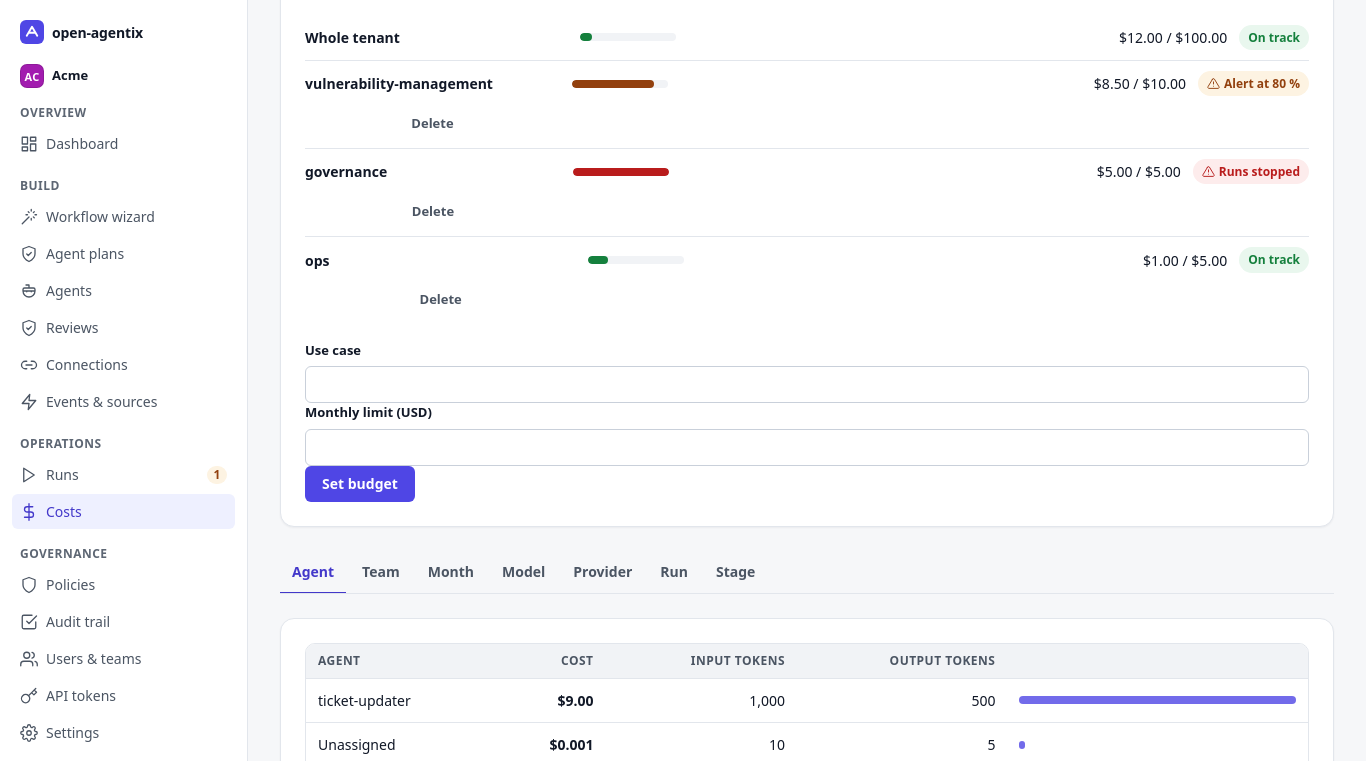
Test: monthly budgets › reports save and remove errors
(page scrolled)
In the field labelled "Use case": (807, 385) [305, 366, 1309, 403], type "finance"
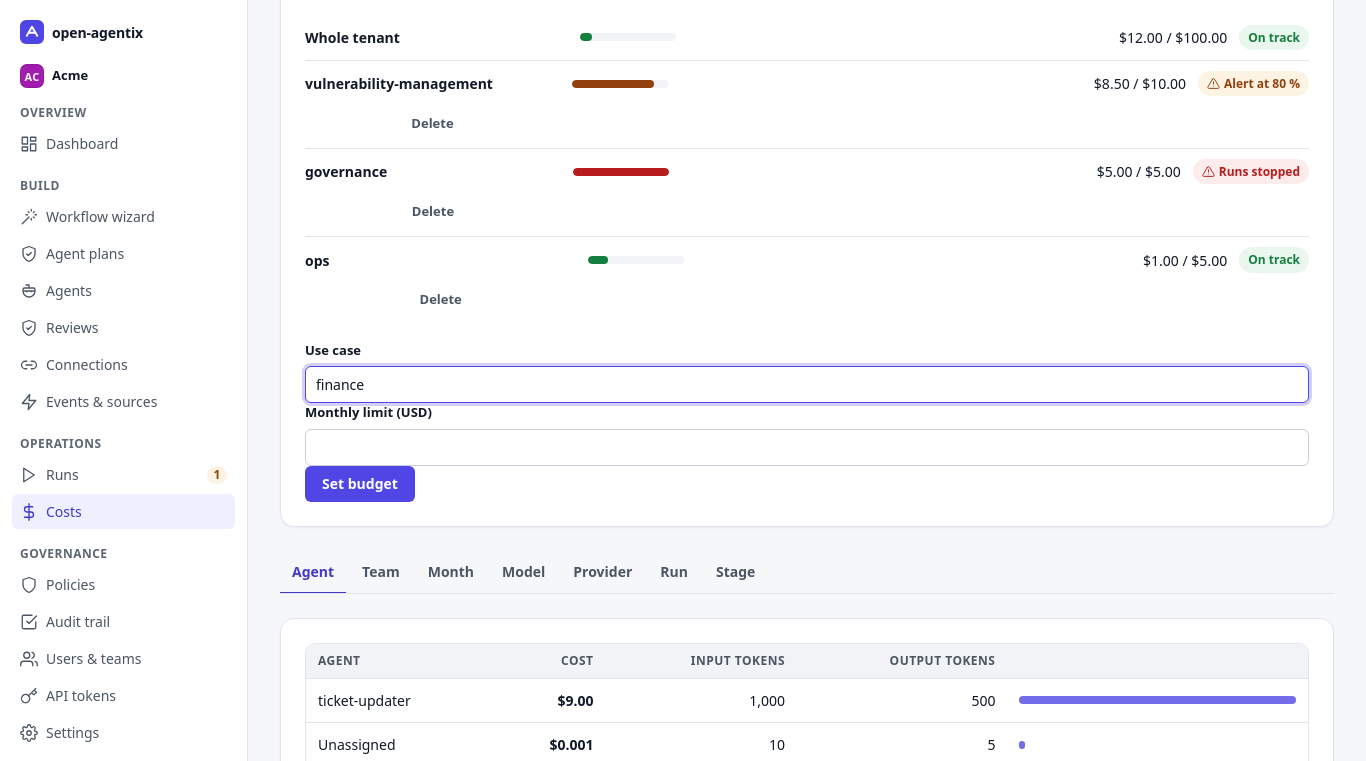
In the number field labelled "Monthly limit (USD)": (807, 447) [305, 429, 1309, 466], type "1"
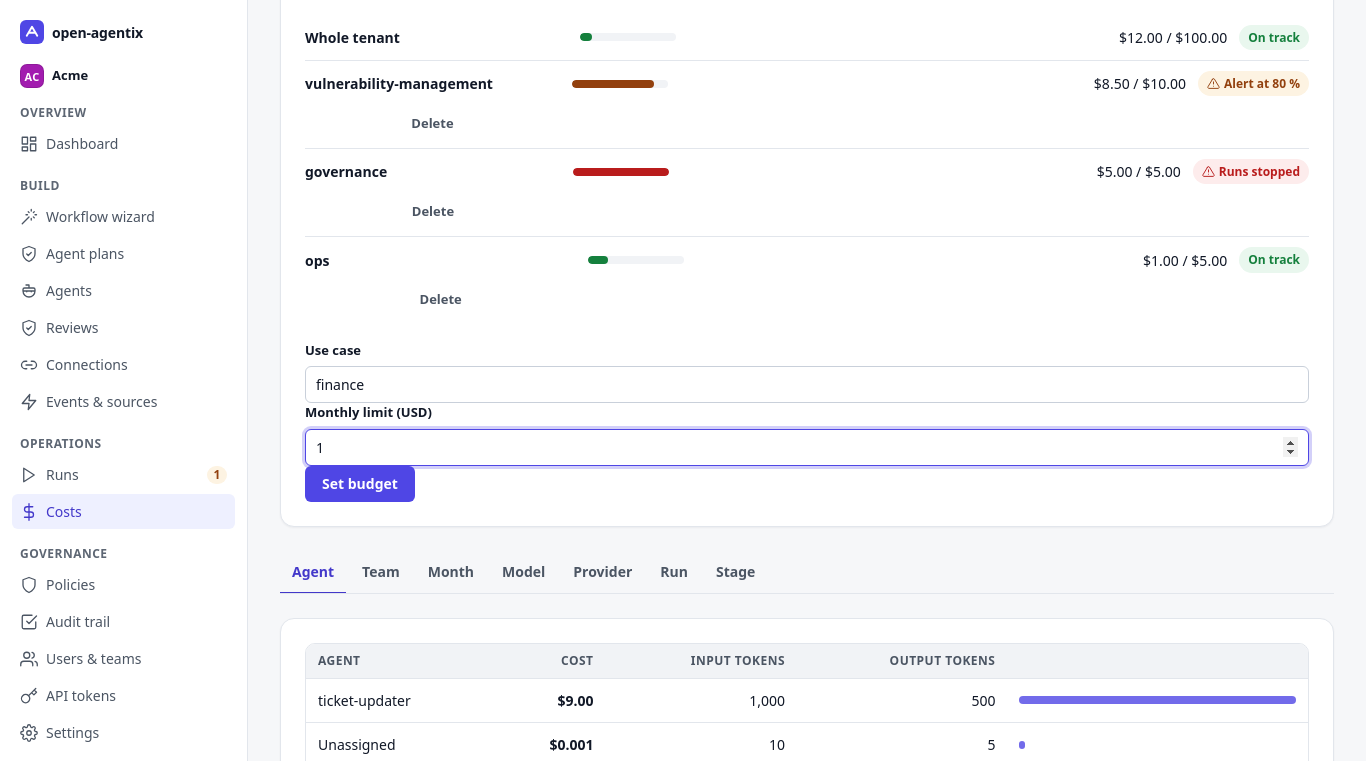
Click the button "Set budget": (360, 484) [305, 466, 415, 502]
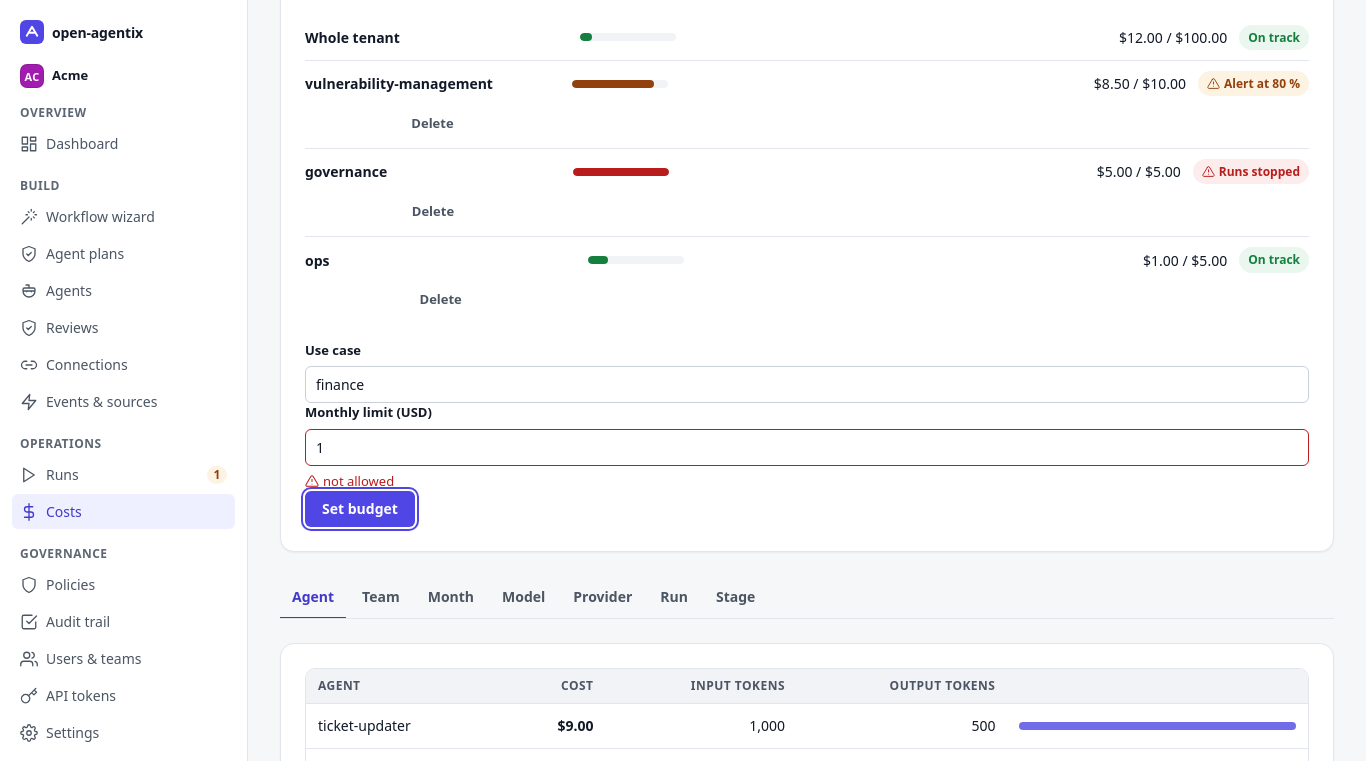
Now the text "not allowed" is shown, box [305, 472, 394, 490]
Click the button with aria-label "Remove the budget of ops": (441, 300) [305, 285, 576, 315]
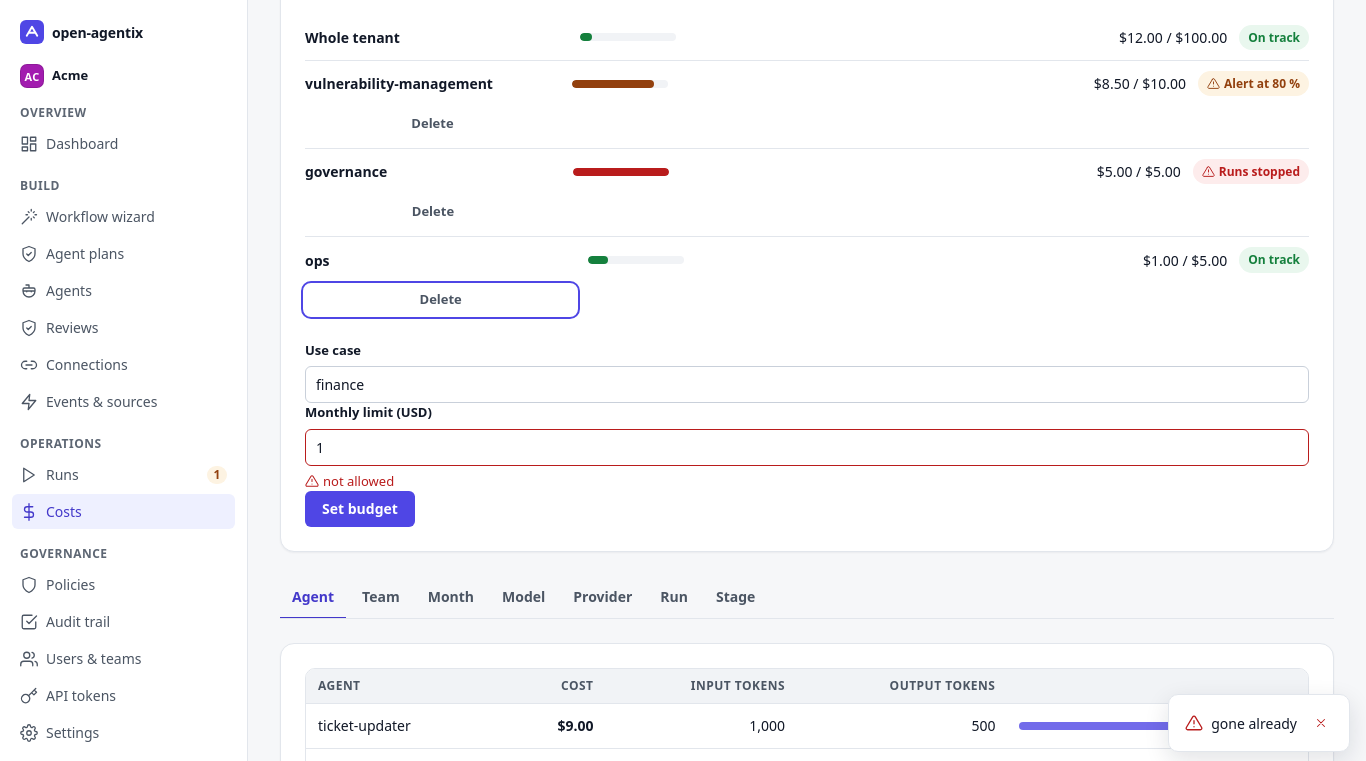
Now the text "gone already" is shown, box [1211, 712, 1297, 734]
